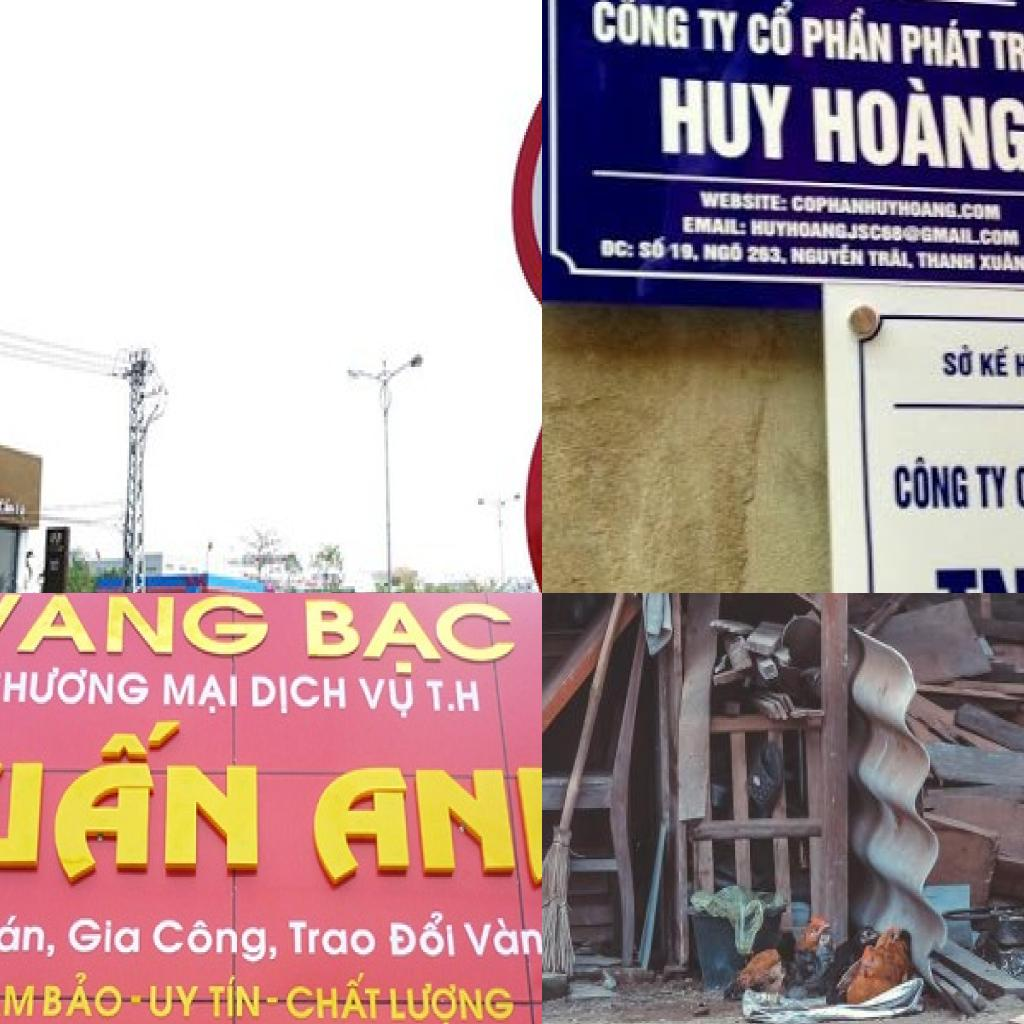text: (0, 717, 264, 895), (305, 758, 542, 890), (806, 72, 1024, 178), (0, 593, 271, 665), (300, 595, 526, 681), (655, 72, 792, 168), (750, 219, 1021, 249), (0, 663, 153, 711), (792, 194, 1006, 226), (150, 916, 281, 968), (800, 6, 899, 70), (283, 967, 383, 1024), (387, 981, 518, 1024), (886, 449, 972, 513), (586, 0, 691, 52), (899, 15, 987, 74), (40, 968, 124, 1024), (249, 674, 350, 720), (285, 918, 380, 966), (160, 670, 242, 720), (460, 918, 542, 968), (65, 914, 143, 962), (385, 911, 459, 961), (745, 0, 798, 61), (0, 913, 59, 965), (356, 676, 418, 724), (206, 975, 264, 1024), (695, 4, 743, 57), (425, 679, 486, 720), (148, 979, 202, 1024), (0, 965, 40, 1022), (987, 19, 1024, 78), (790, 243, 868, 268), (970, 460, 1008, 508), (935, 341, 977, 383), (701, 194, 790, 212), (918, 251, 979, 277), (867, 245, 916, 272), (976, 251, 1024, 278), (680, 217, 748, 236), (977, 342, 1012, 378), (748, 245, 792, 272), (598, 236, 638, 264), (704, 240, 746, 262), (638, 234, 668, 262), (1012, 445, 1024, 513), (670, 240, 701, 264), (266, 995, 281, 1009), (130, 993, 143, 1009)
